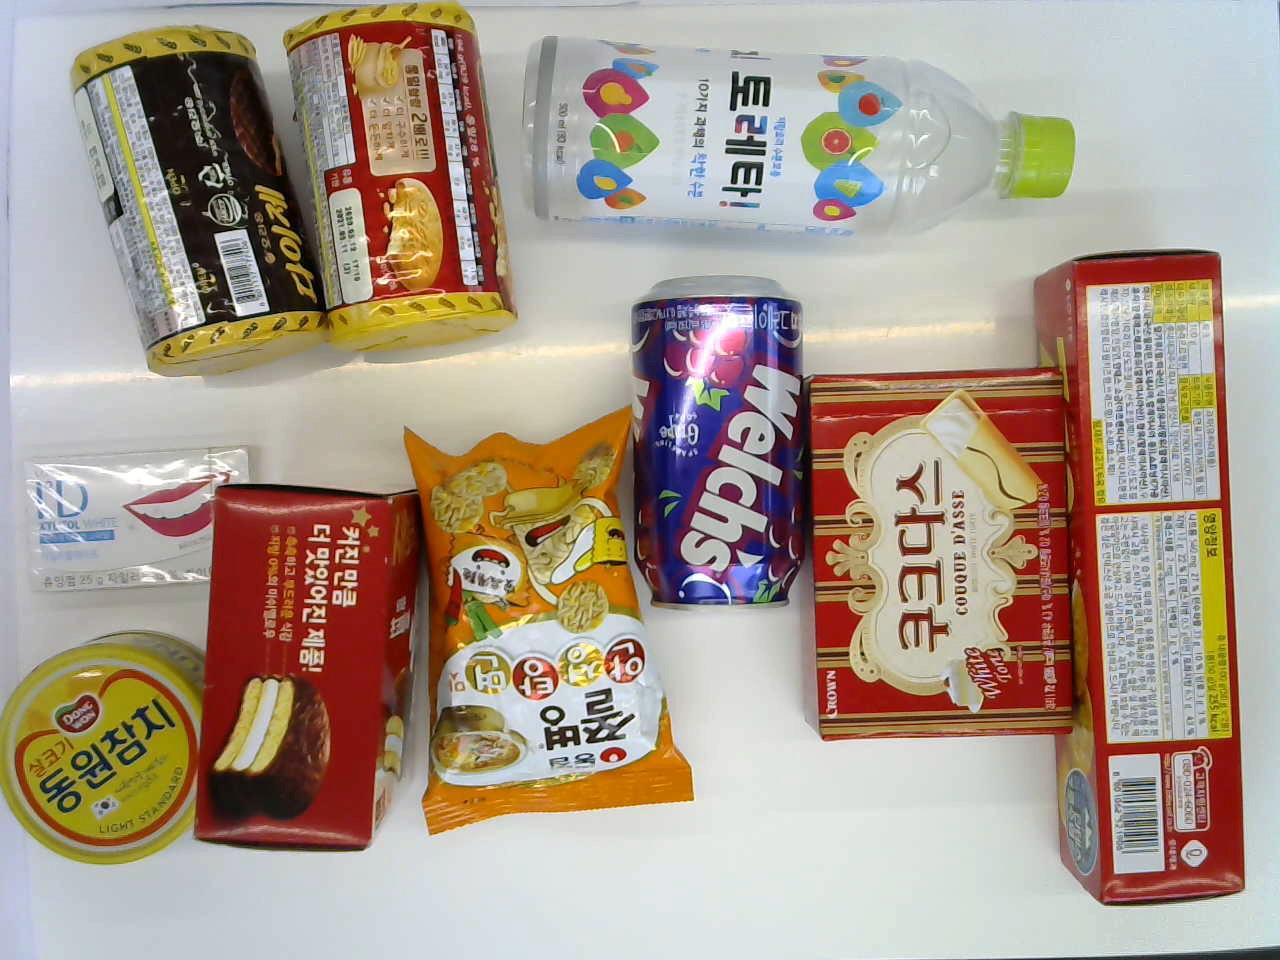ID_gum: (24, 452, 278, 582)
chocopie: (189, 484, 415, 853)
couque_white: (807, 366, 1070, 744)
diget_choco: (67, 24, 325, 376)
diget_ori: (277, 4, 519, 351)
jjolbyung_noodle: (403, 419, 698, 856)
toreta: (523, 29, 1074, 238)
tuna: (1, 636, 220, 867)
welchs: (629, 274, 806, 607)
zec: (1038, 245, 1246, 902)
